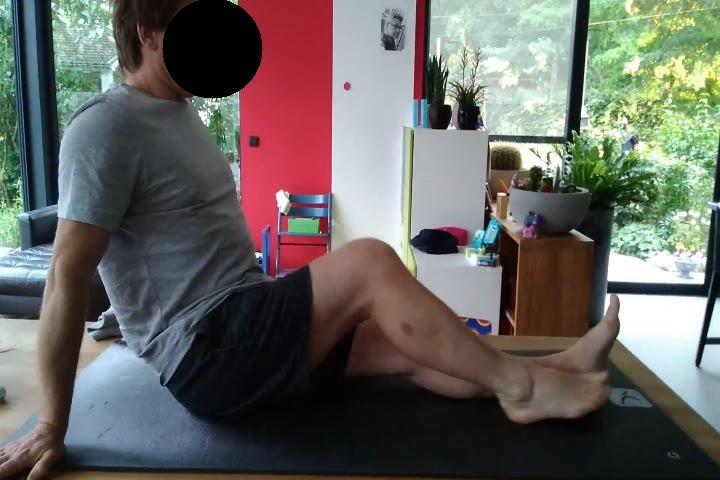lower_body: (168, 234, 623, 430)
